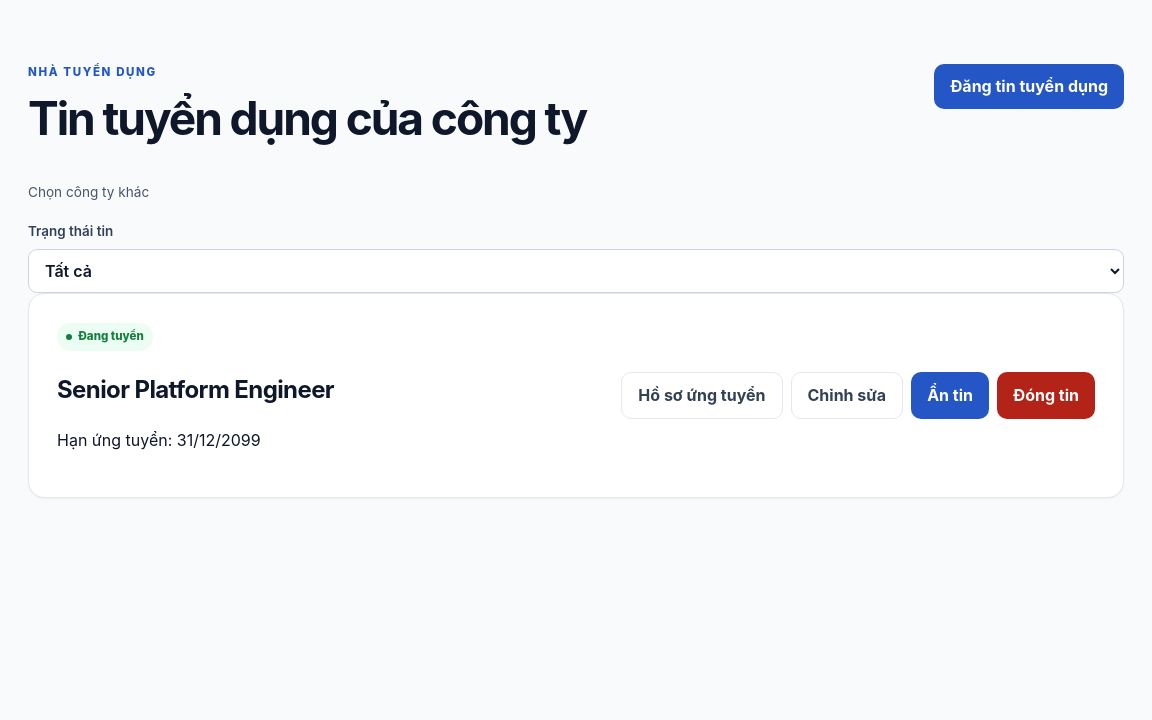
Test: UX journeys › asks for confirmation before closing a Job
Click the button "Đóng tin" at (1046, 395), box left=997, top=372, right=1095, bottom=419
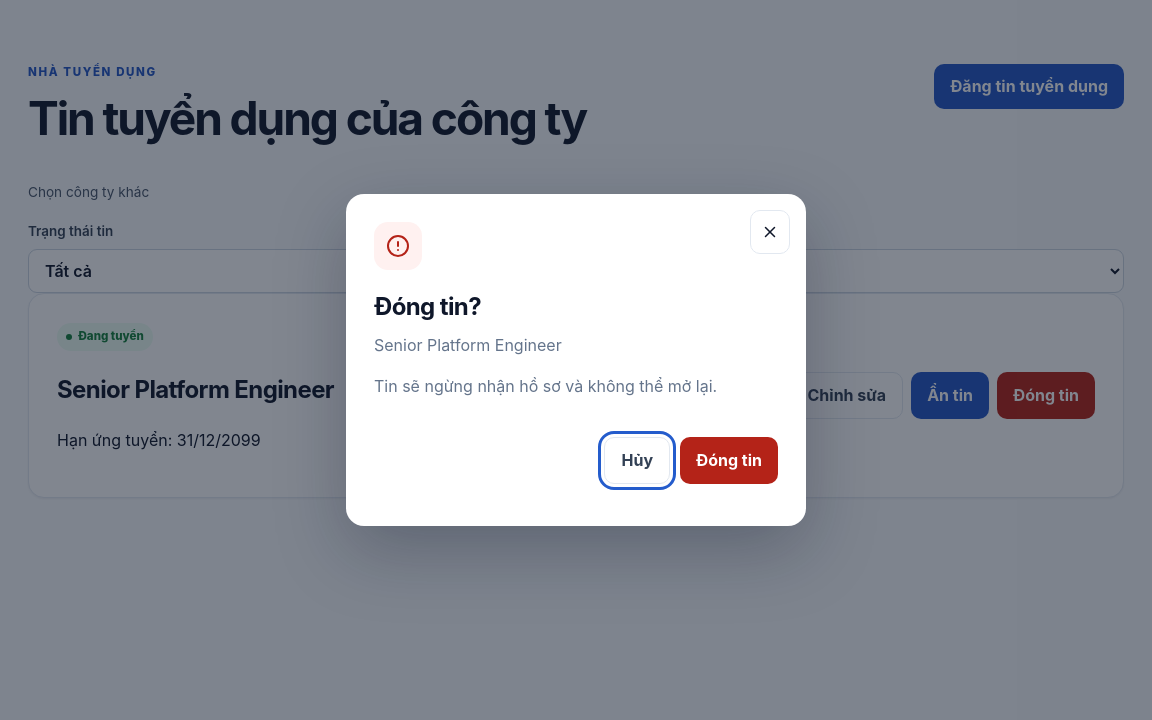
Now the dialog "Đóng tin?" is shown, box left=346, top=194, right=806, bottom=526
Now the text "Tin sẽ ngừng nhận hồ sơ và không thể mở lại." is shown, box left=374, top=376, right=717, bottom=396
